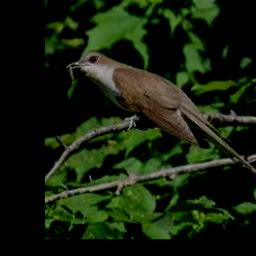Cuckoo: (67, 50, 256, 187)
